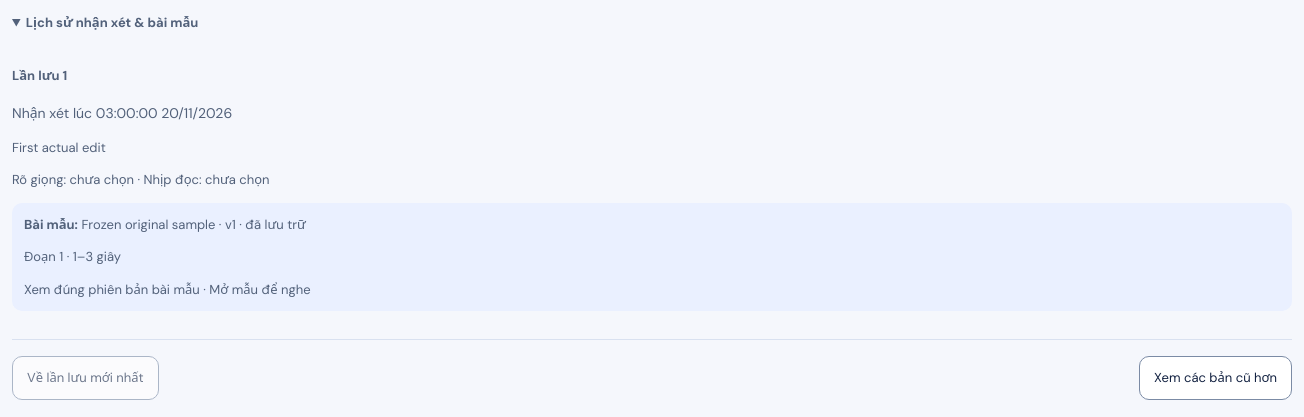
pinned recording samples and history › loads immutable history lazily, labels legacy captures and follows the server cursor without writes or players
Click the button "Xem các bản cũ hơn". click: click(1216, 378)
box: [1139,356,1292,400]
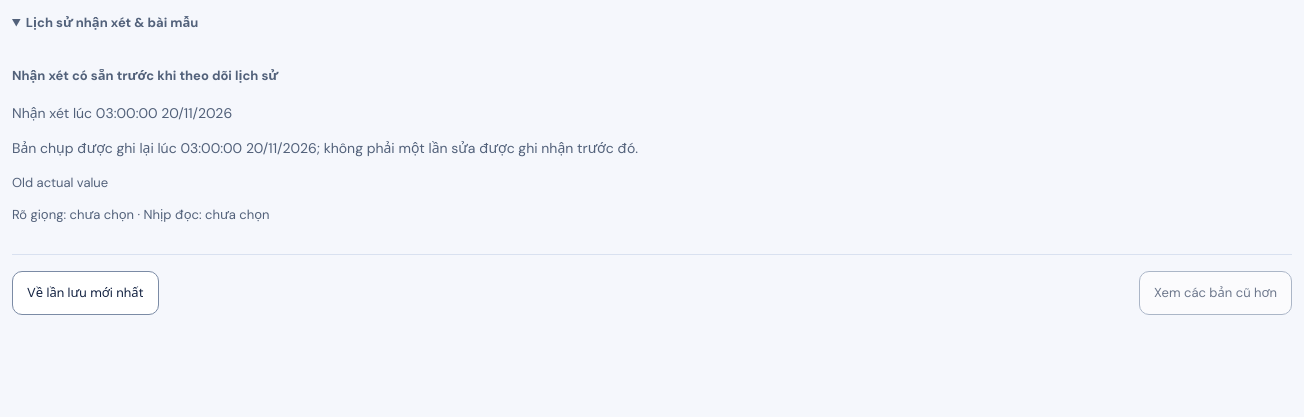
Now the text "Nhận xét có sẵn trước khi theo dõi lịch sử" is shown, box [12,67,278,84]
Now the text "Old actual value" is shown, box [12,174,108,191]
